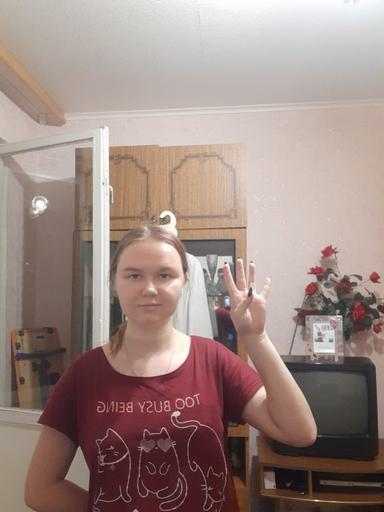four: (221, 256, 272, 337)
